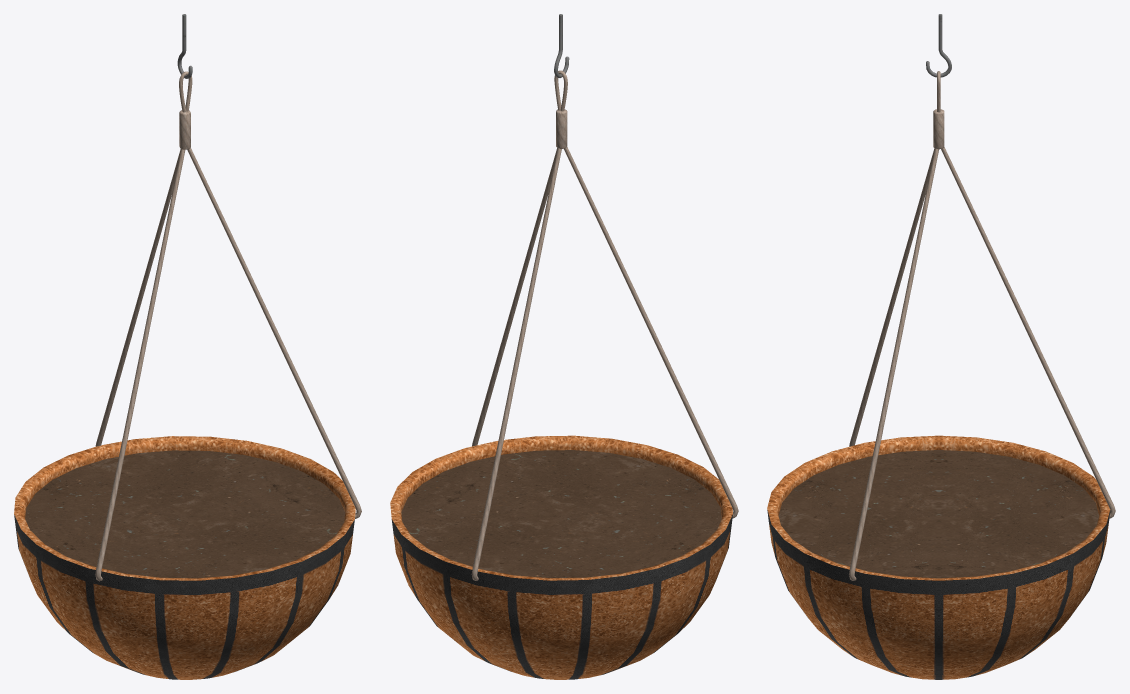
The model's file is GardenPot04_3.FBX.
The picture shows the model from 3 angles, left to right: view 1: azimuth 30°, elevation 25°; view 2: azimuth 150°, elevation 25°; view 3: azimuth 270°, elevation 25°; orthographic projection.
Parts seen in each view (by area): view 1: GardenPot04_3; view 2: GardenPot04_3; view 3: GardenPot04_3.
Boxes of the visible parts, bbox=[...] form: GardenPot04_3: bbox=[14, 14, 361, 679]; GardenPot04_3: bbox=[390, 14, 738, 679]; GardenPot04_3: bbox=[767, 14, 1115, 679].
Size of what is drawn, in the model's own units: 0.5752 by 1.2 by 0.5838.
